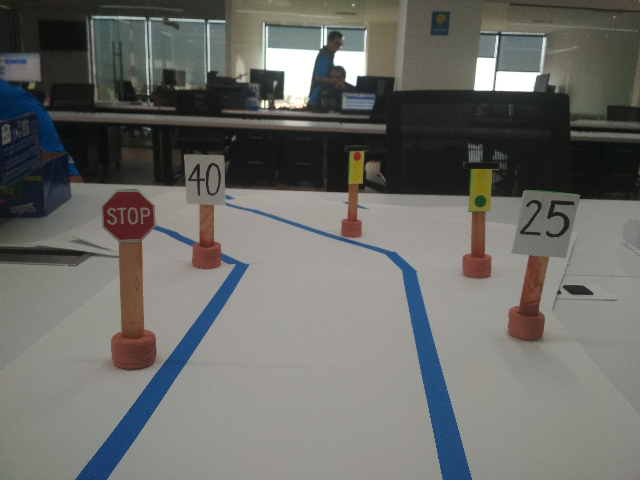Green Traffic Light: (460, 161, 499, 211)
Red Traffic Light: (342, 143, 367, 186)
Speed Limit 25: (512, 188, 584, 256)
Speed Limit 40: (181, 152, 227, 204)
Stop Sign: (99, 188, 158, 243)
